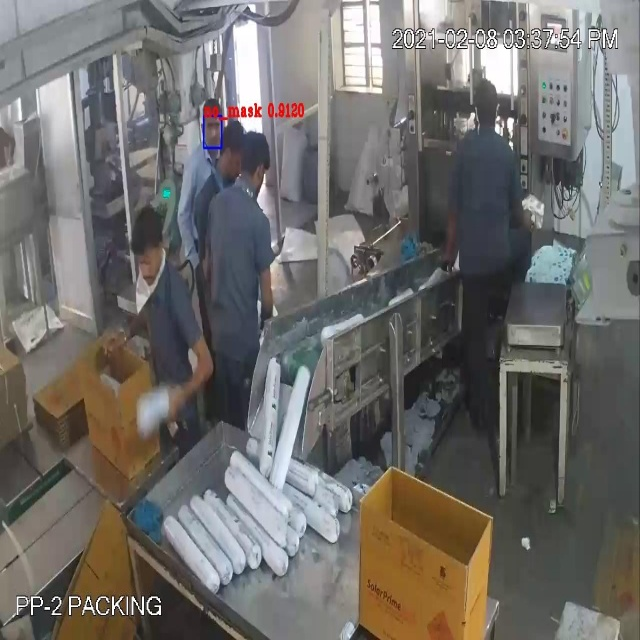Sin_guantes: (156, 332, 220, 430), (96, 296, 158, 370)
